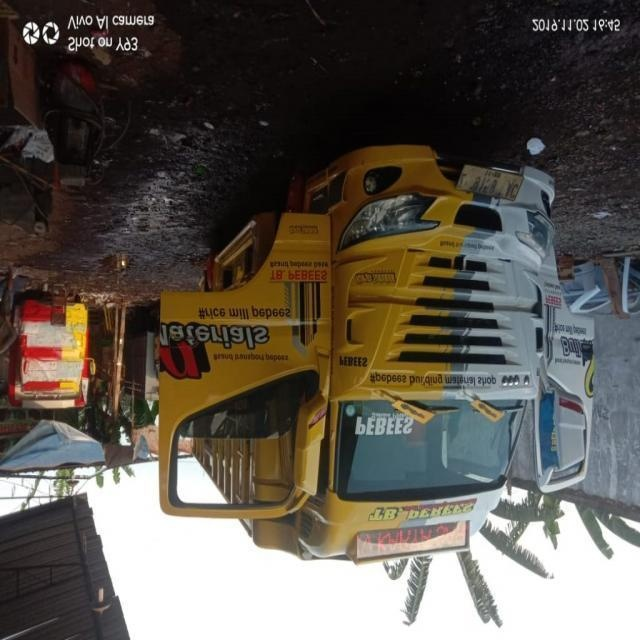Truck: (160, 133, 594, 564)
